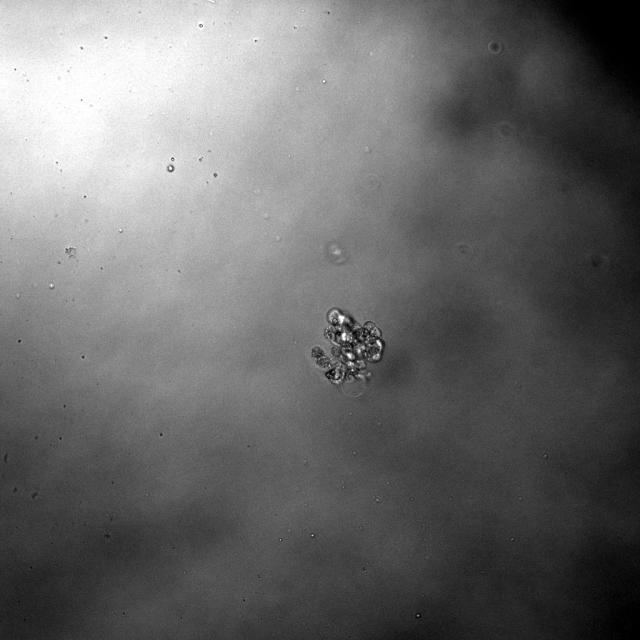organoid: (312, 307, 384, 397)
